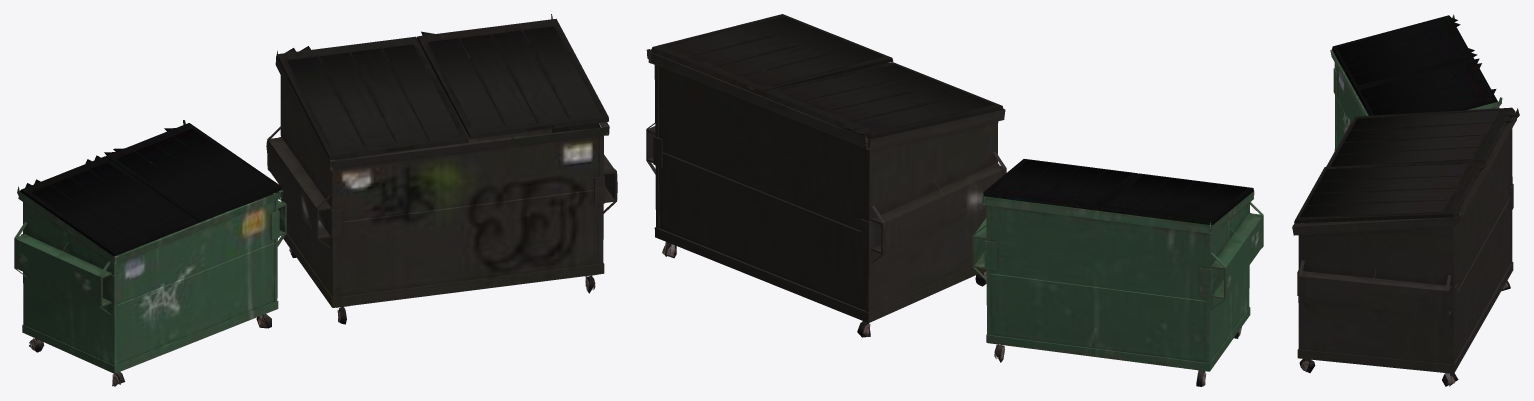
File: dumpster.glb
3 views of the same model, side by side, from view 1: azimuth 30°, elevation 25°; view 2: azimuth 150°, elevation 25°; view 3: azimuth 270°, elevation 25° (orthographic). The views are drawn at different scales.
Parts seen in each view (by area): view 1: 6Y_6Y_dumpster_tex_0, 4Y_4Y_dumpster_tex_0; view 2: 6Y_6Y_dumpster_tex_0, 4Y_4Y_dumpster_tex_0; view 3: 6Y_6Y_dumpster_tex_0, 4Y_4Y_dumpster_tex_0.
Boxes of the visible parts, box(x1,y1,x2,y2) form: 6Y_6Y_dumpster_tex_0: box(266, 14, 617, 324); 4Y_4Y_dumpster_tex_0: box(14, 120, 286, 386); 6Y_6Y_dumpster_tex_0: box(646, 14, 1006, 337); 4Y_4Y_dumpster_tex_0: box(972, 159, 1263, 386); 6Y_6Y_dumpster_tex_0: box(1292, 107, 1519, 386); 4Y_4Y_dumpster_tex_0: box(1330, 14, 1502, 150).
Size of the model in its own units: 117 by 40.99 by 46.72.
2 materials, 2 textured.
